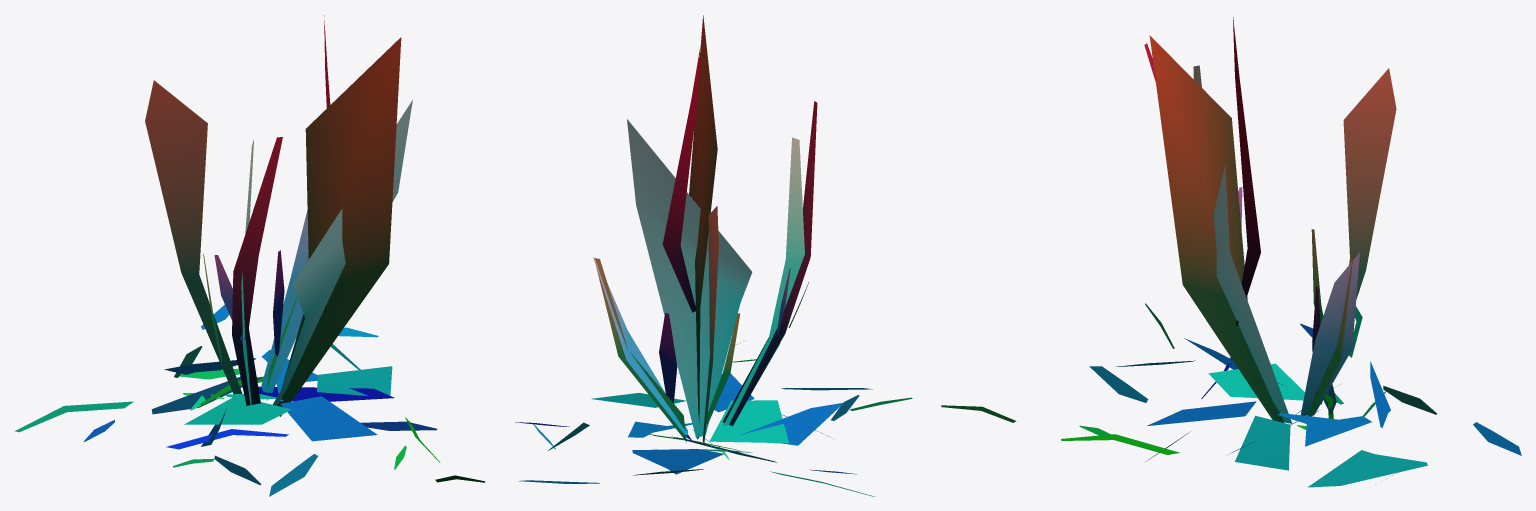
File: deadShrubs.fbx
The picture shows the model from 3 angles, left to right: view 1: azimuth 30°, elevation 25°; view 2: azimuth 150°, elevation 25°; view 3: azimuth 270°, elevation 25°; orthographic projection. The views are drawn at different scales.
Parts seen in each view (by area): view 1: _8h7y_VarA_LOD2; view 2: _8h7y_VarA_LOD2; view 3: _8h7y_VarA_LOD2.
Boxes of the visible parts, x1=… form: _8h7y_VarA_LOD2: x1=15, y1=15, x2=485, y2=496; _8h7y_VarA_LOD2: x1=515, y1=15, x2=912, y2=496; _8h7y_VarA_LOD2: x1=941, y1=17, x2=1521, y2=487.
Bounding box in the file's own units: 29.45 × 30.06 × 36.81.
